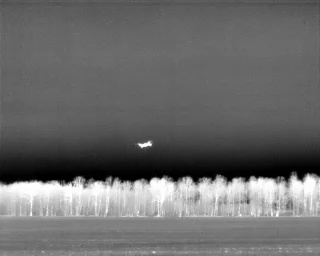DRONE: (132, 136, 158, 154)
